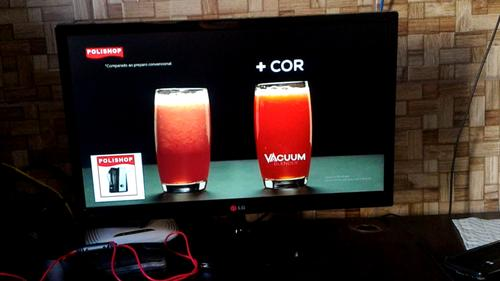Polishop #1: (90, 152, 145, 202)
